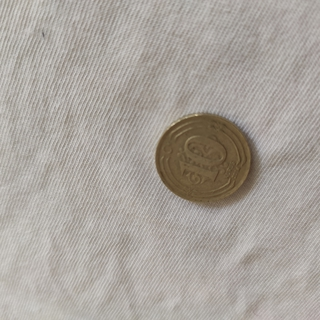10KURUS: (152, 110, 255, 204)
